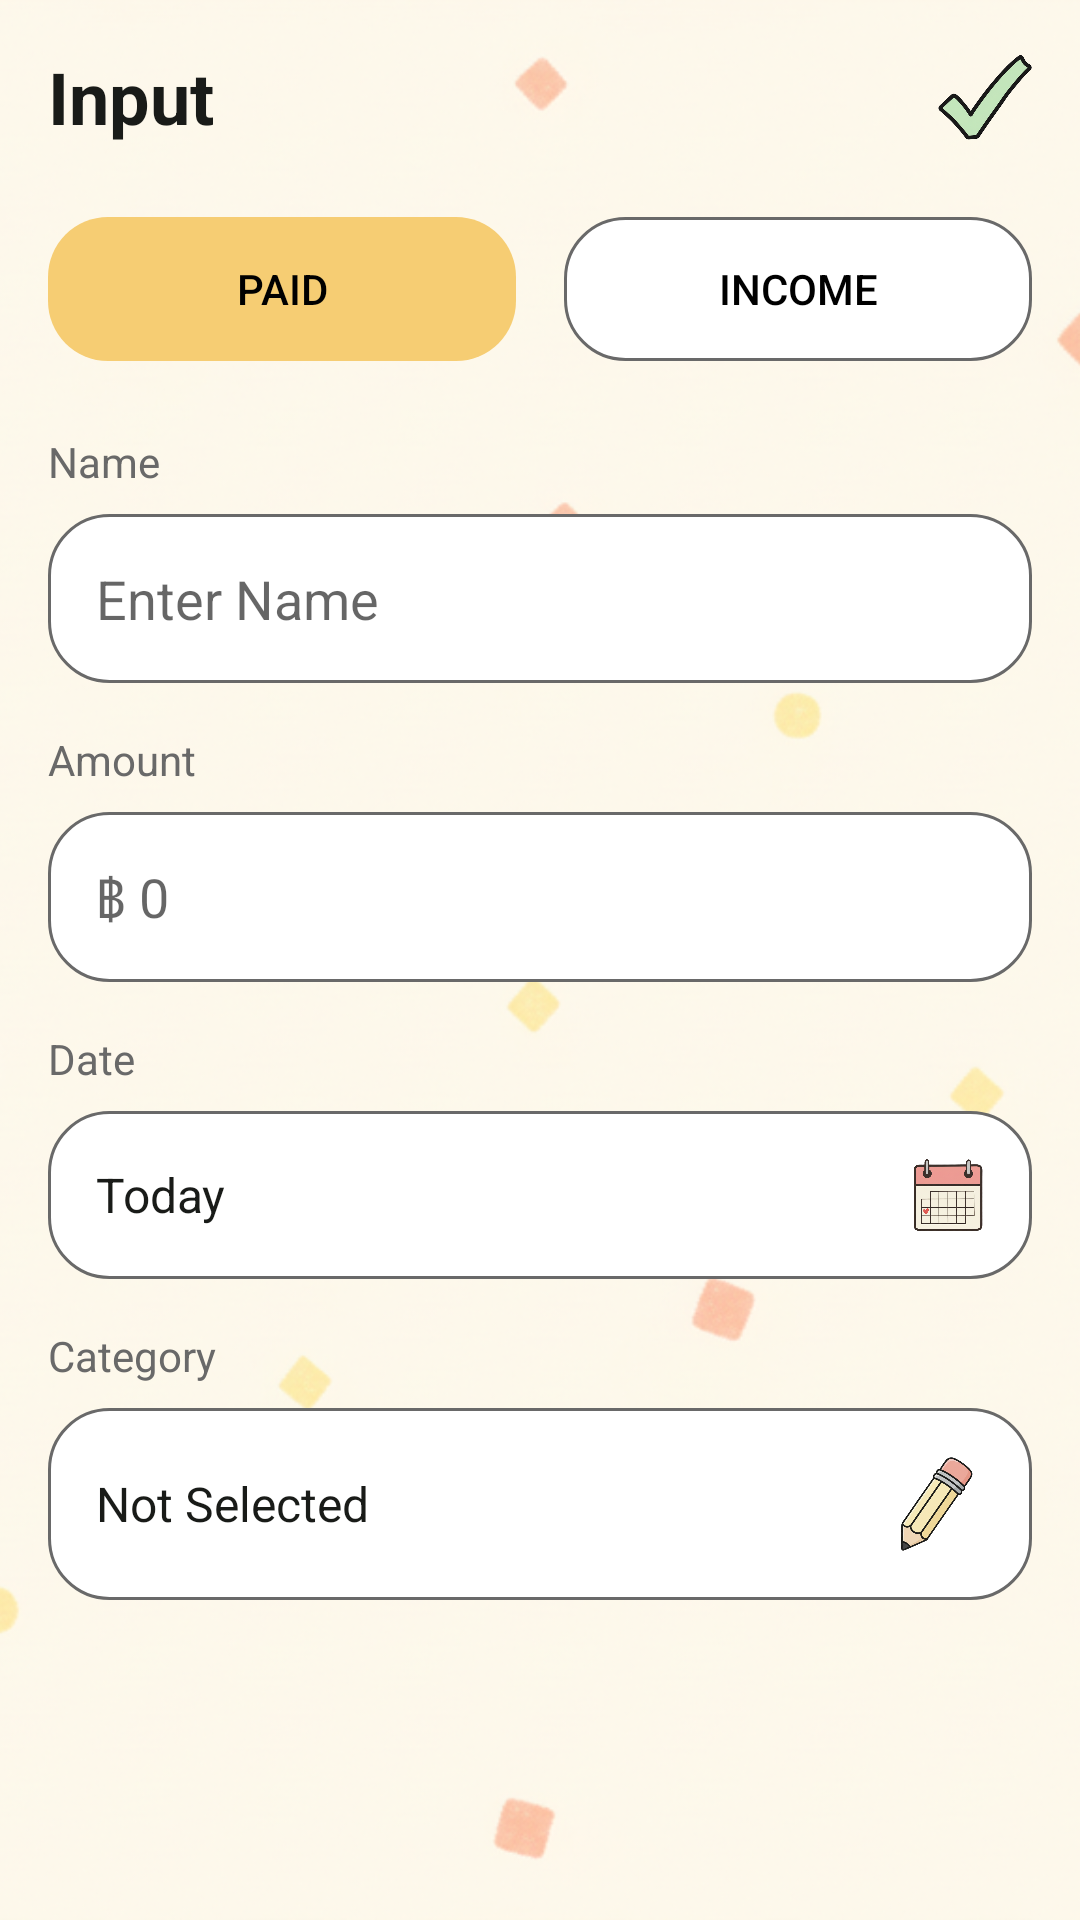

Where to tap for icons on this 1080 × 1920 app screen, as point (x, y):
Date Icon: point (948, 1195)
Save: point (985, 97)
